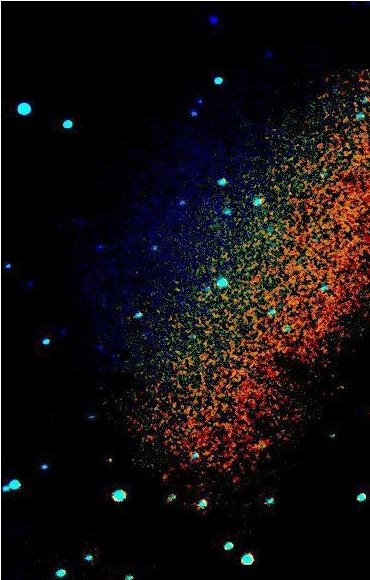star: (92, 444, 122, 474)
